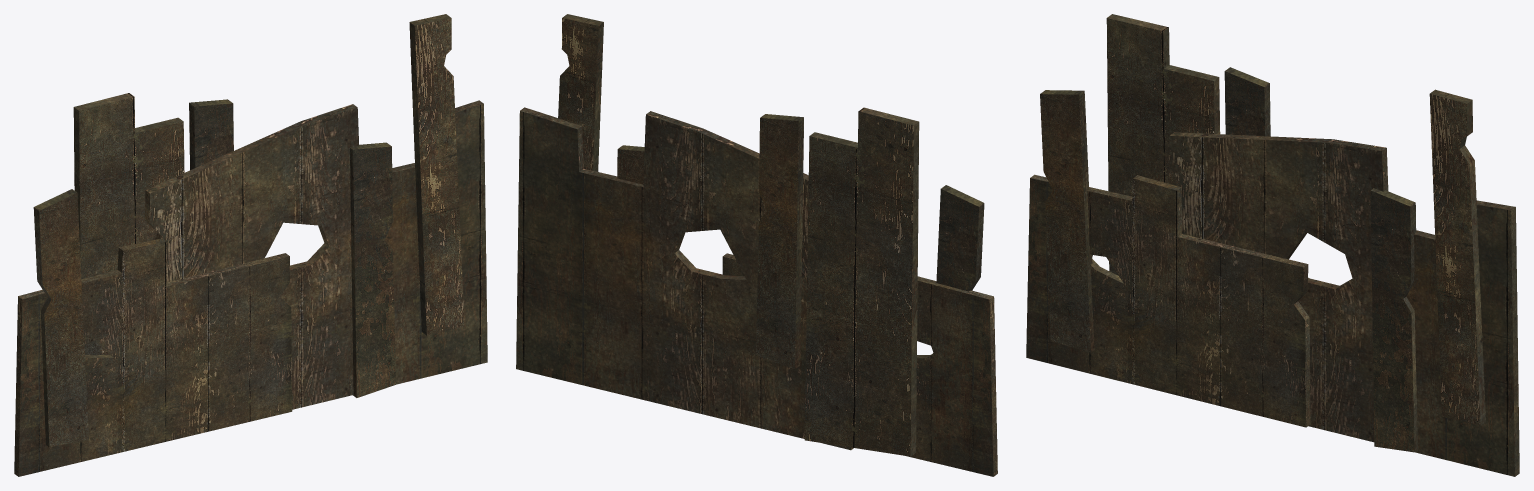
The model's file is Wall_Wood3.fbx.
3 views of the same model, side by side, from view 1: azimuth 30°, elevation 25°; view 2: azimuth 150°, elevation 25°; view 3: azimuth 330°, elevation 25° (orthographic). The views are drawn at different scales.
Visible parts, largest first — view 1: woodwall4; view 2: woodwall4; view 3: woodwall4.
Part boxes in pixels (<box>): woodwall4: <box>14,14,487,476</box>; woodwall4: <box>516,14,997,476</box>; woodwall4: <box>1026,14,1519,476</box>.
Size of the model in its own units: 720 by 523 by 47.46.
